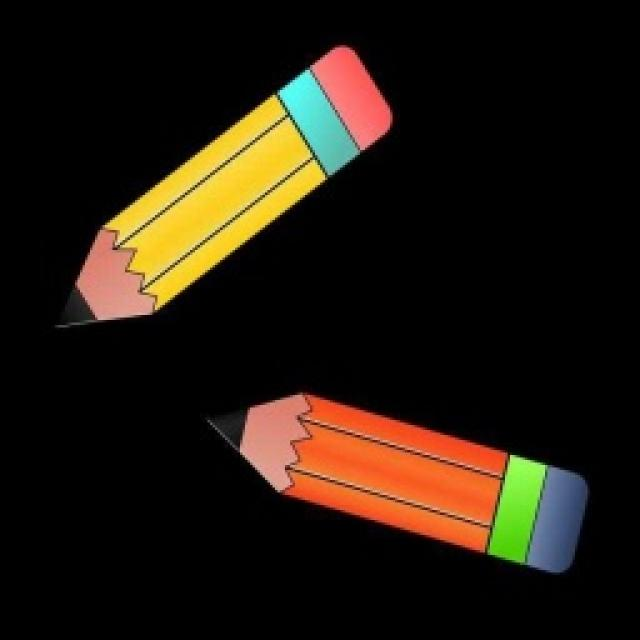pencil: (50, 40, 395, 330), (200, 385, 590, 577)
